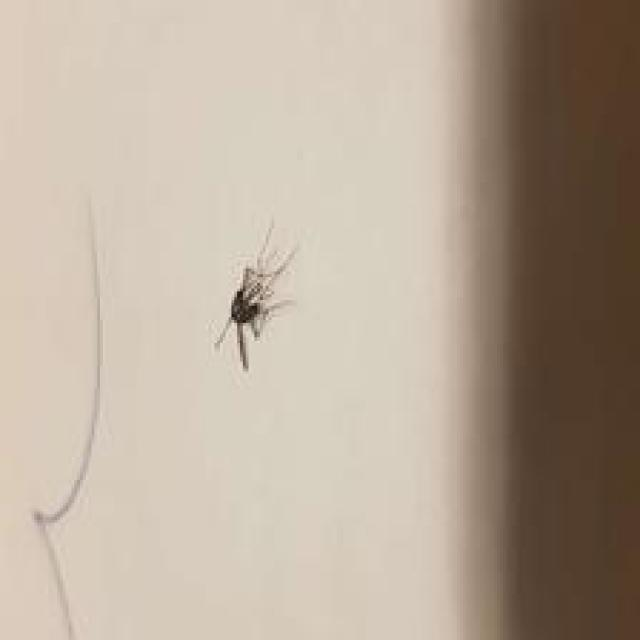Aedes albopictus: (211, 220, 300, 371)
